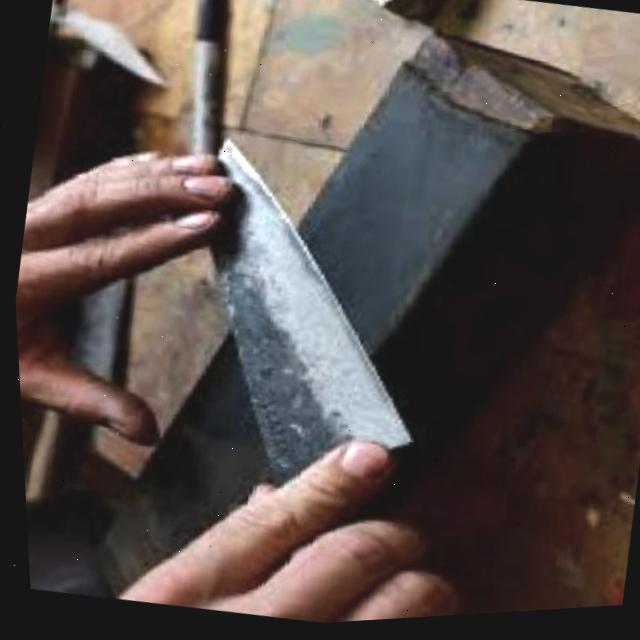knife: (148, 128, 454, 516)
